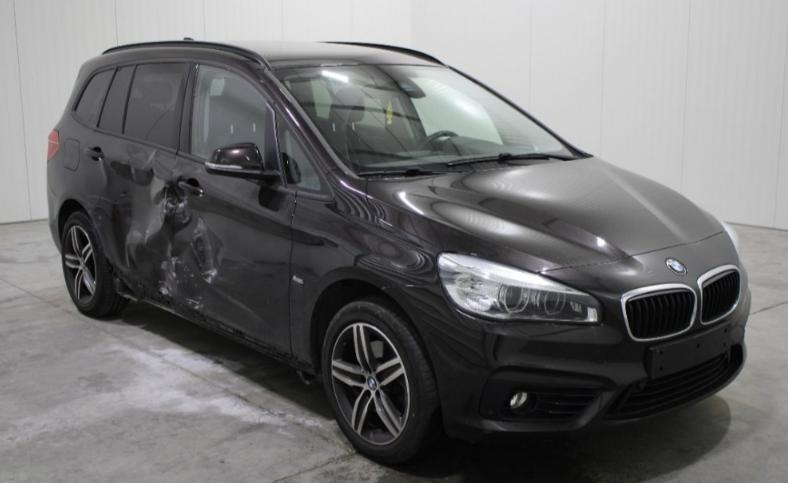Back-bumper: (47, 183, 63, 255)
Back-door: (82, 58, 192, 294)
Back-wheel: (61, 209, 130, 317)
Back-window: (124, 63, 185, 147), (71, 63, 118, 131), (99, 66, 133, 133)
Fender: (290, 168, 443, 364)
Front-bumper: (381, 260, 752, 442)
Front-door: (172, 58, 297, 353)
Front-wheel: (321, 295, 443, 464)
Front-window: (191, 65, 266, 167), (275, 102, 331, 197)
Grille: (620, 265, 743, 342)
Headlight: (436, 252, 605, 325), (717, 218, 740, 260)
Hood: (367, 156, 740, 299)
Mirror: (204, 142, 280, 180)
Quarter-panel: (47, 113, 116, 265)
Rocker-panel: (108, 258, 319, 378)
Roof: (78, 37, 450, 75)
Tail-light: (47, 130, 59, 162)
Windshield: (260, 65, 593, 182)
